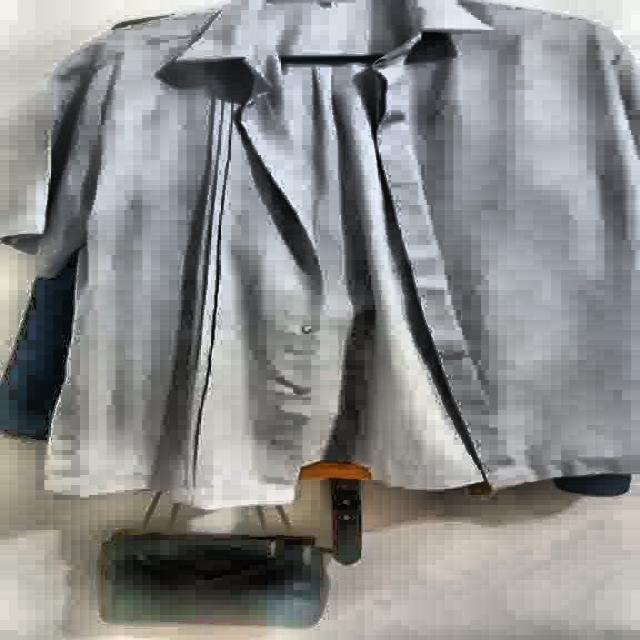clothes: (6, 0, 636, 512)
